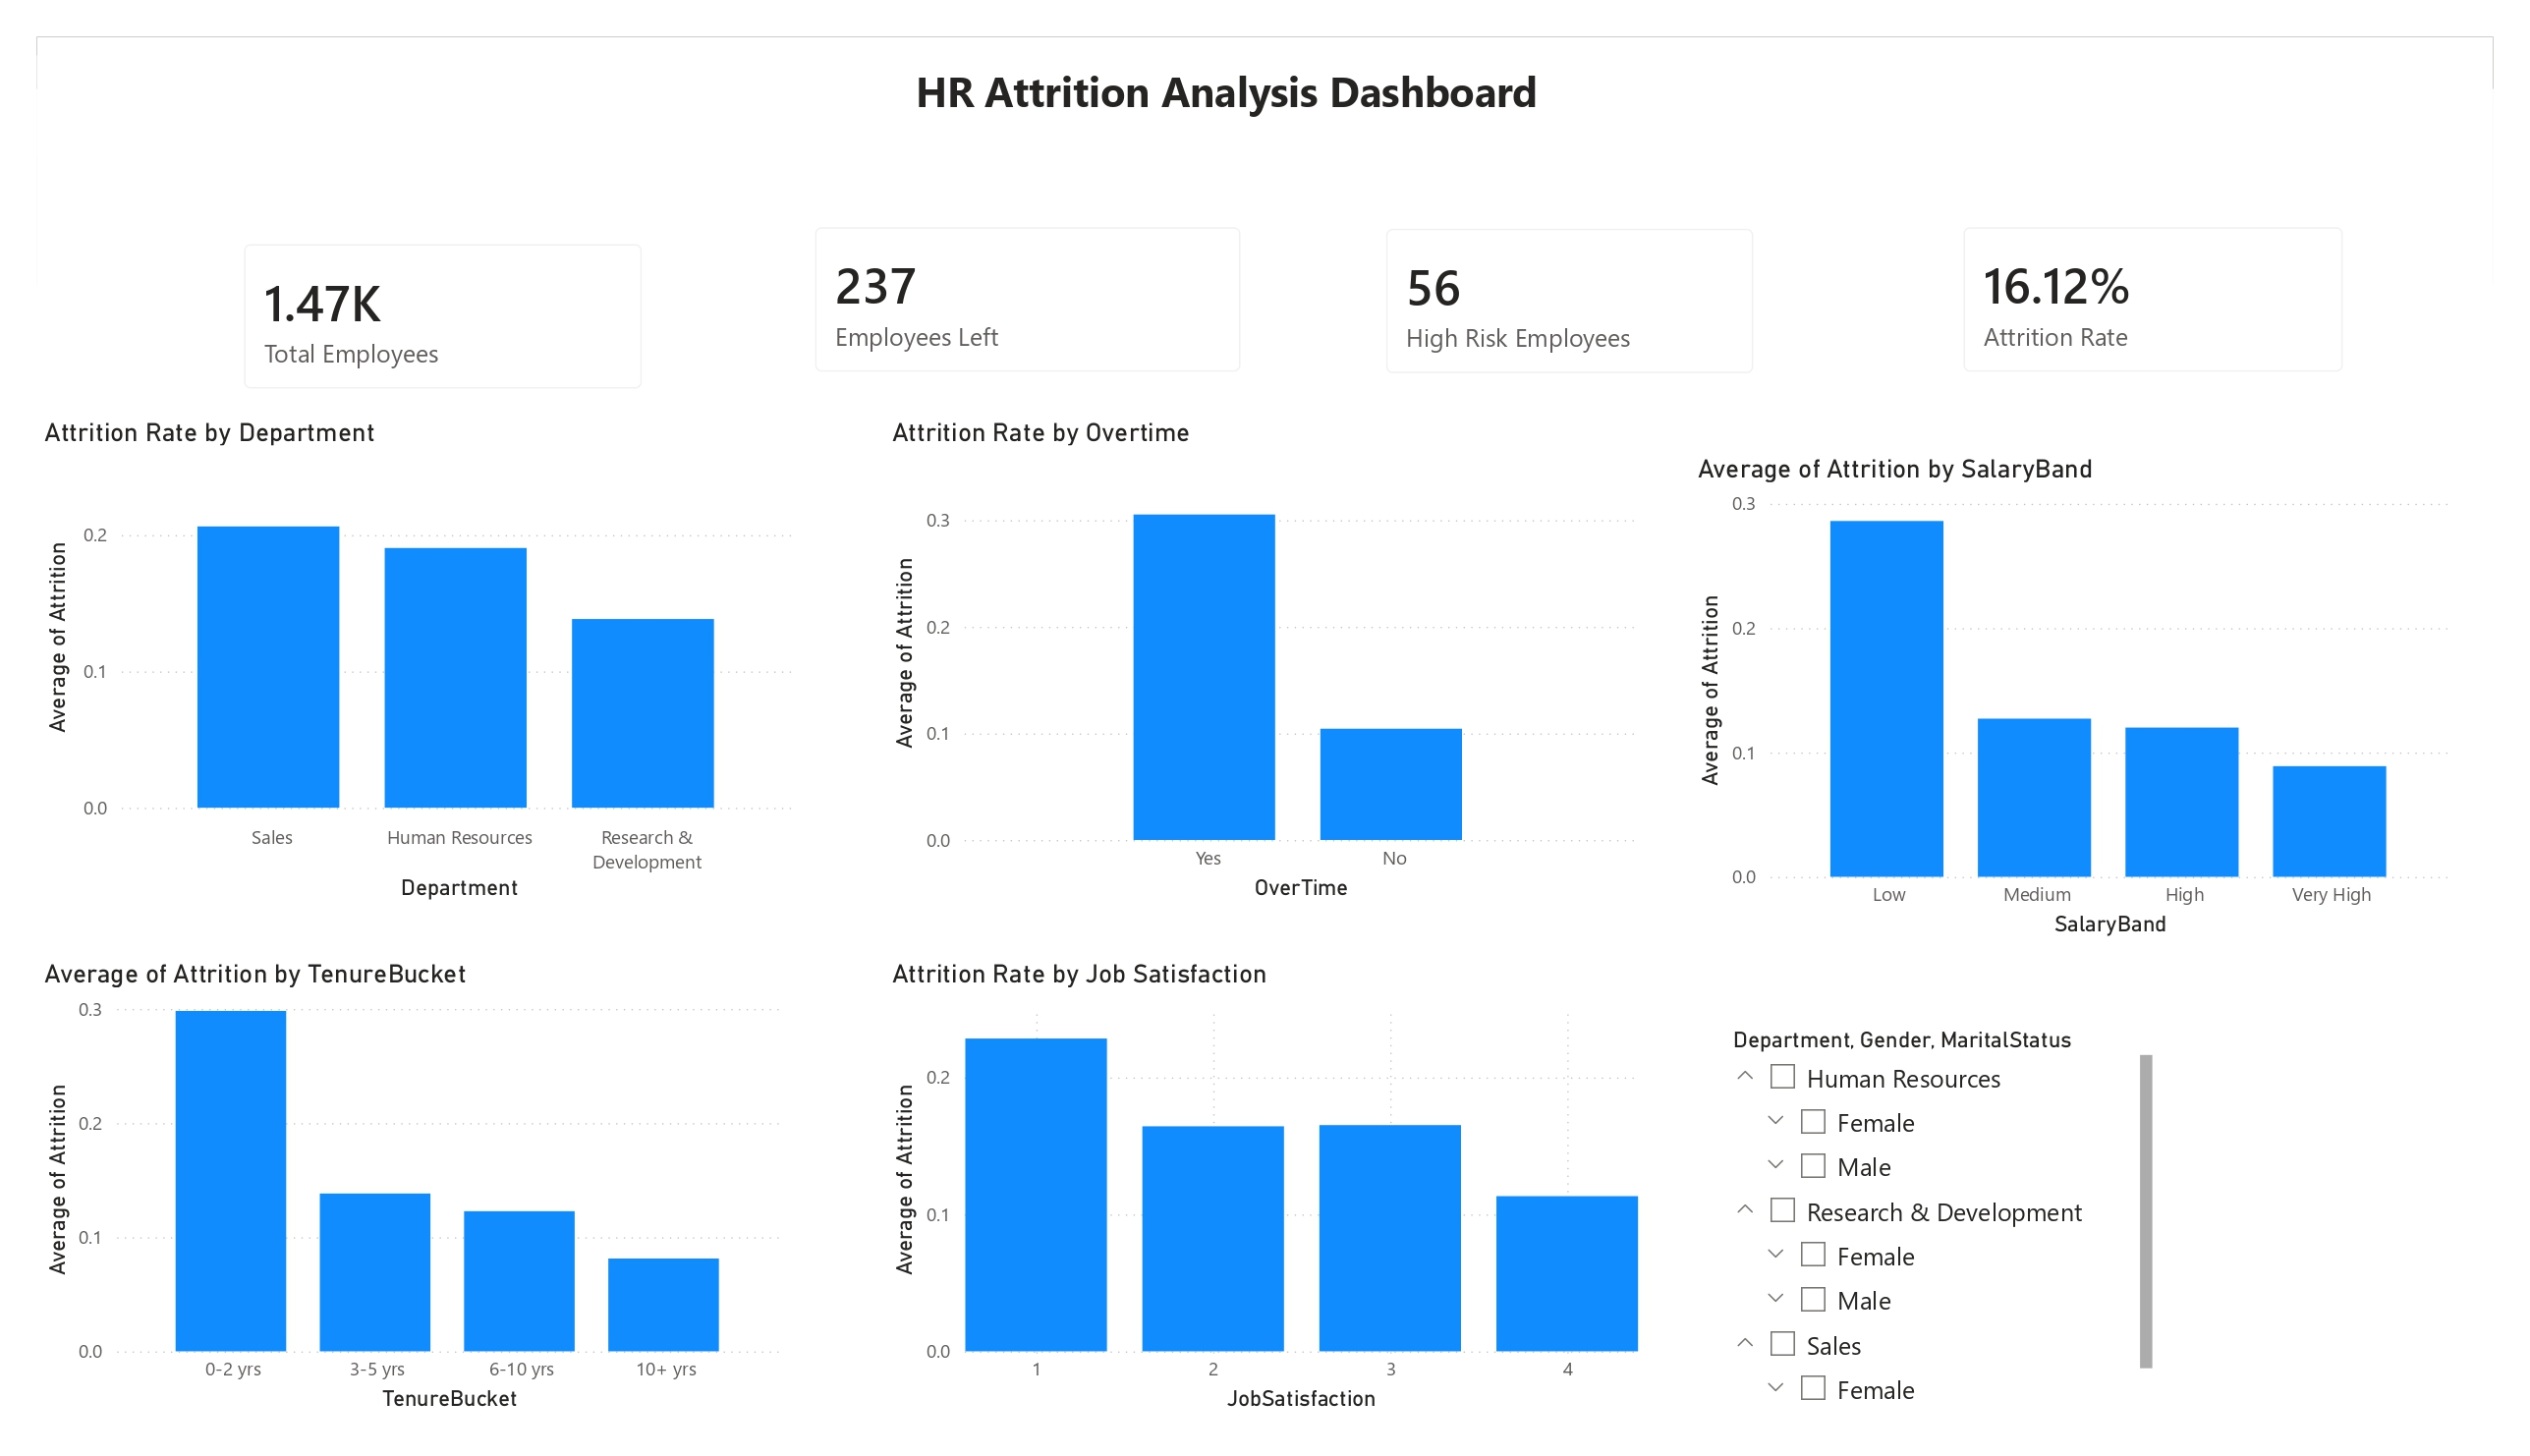

What the dashboard file says about the page in this screenshot:
{"tool":"powerbi","page":{"name":"Page 1","canvas":[1600,900],"ordinal":0},"visuals":[{"type":"cardVisual","fields":{"Data":["cleaned_data.Total Employees"]},"box":[118.3,118.3,293.3,128.3],"z":0},{"type":"cardVisual","fields":{"Data":["cleaned_data.Employees Left"]},"box":[490,106.7,311.7,128.3],"z":1},{"type":"cardVisual","fields":{"Data":["cleaned_data.Attrition Rate"]},"box":[1238.3,106.7,281.7,128.3],"z":2},{"type":"cardVisual","fields":{"Data":["cleaned_data.High Risk Employees"]},"box":[861.7,108.3,273.3,128.3],"z":3},{"type":"clusteredColumnChart","title":"Attrition Rate by Department","fields":{"Category":["cleaned_data.Department"],"Y":["Avg(cleaned_data.Attrition)"]},"box":[0,246.7,500,320],"z":4},{"type":"clusteredColumnChart","title":"Attrition Rate by Overtime","fields":{"Y":["Avg(cleaned_data.Attrition)"],"Category":["cleaned_data.OverTime"]},"box":[551.7,246.7,496.7,320],"z":5},{"type":"clusteredColumnChart","fields":{"Category":["cleaned_data.SalaryBand"],"Y":["Avg(cleaned_data.Attrition)"]},"box":[1077.3,270.7,500,320],"z":6},{"type":"clusteredColumnChart","fields":{"Y":["Avg(cleaned_data.Attrition)"],"Category":["cleaned_data.TenureBucket"]},"box":[0,600,490,300],"z":7},{"type":"clusteredColumnChart","title":"Attrition Rate by Job Satisfaction","fields":{"Y":["Avg(cleaned_data.Attrition)"],"Category":["cleaned_data.JobSatisfaction"]},"box":[551.7,600,496.7,300],"z":8},{"type":"slicer","fields":{"Values":["cleaned_data.Department","cleaned_data.Gender","cleaned_data.MaritalStatus"]},"box":[1091.7,640,291.7,260],"z":9},{"type":"textbox","box":[0,11.7,1550,65],"z":10}]}

Visuals, with their boxes on the page's 1600x900 design canvas (x1, y1, x2, y2). These are canvas units, not pixel positions in the 2530x1456 screenshot, which may show the page scaled, cropped or inside an application window:
cardVisual - cleaned_data.Total Employees: bbox=[118, 118, 412, 247]
cardVisual - cleaned_data.Employees Left: bbox=[490, 107, 802, 235]
cardVisual - cleaned_data.Attrition Rate: bbox=[1238, 107, 1520, 235]
cardVisual - cleaned_data.High Risk Employees: bbox=[862, 108, 1135, 237]
"Attrition Rate by Department" clusteredColumnChart: bbox=[0, 247, 500, 567]
"Attrition Rate by Overtime" clusteredColumnChart: bbox=[552, 247, 1048, 567]
clusteredColumnChart - cleaned_data.SalaryBand x Avg(cleaned_data.Attrition): bbox=[1077, 271, 1577, 591]
clusteredColumnChart - Avg(cleaned_data.Attrition) x cleaned_data.TenureBucket: bbox=[0, 600, 490, 900]
"Attrition Rate by Job Satisfaction" clusteredColumnChart: bbox=[552, 600, 1048, 900]
slicer - cleaned_data.Department x cleaned_data.Gender: bbox=[1092, 640, 1383, 900]
textbox: bbox=[0, 12, 1550, 77]
